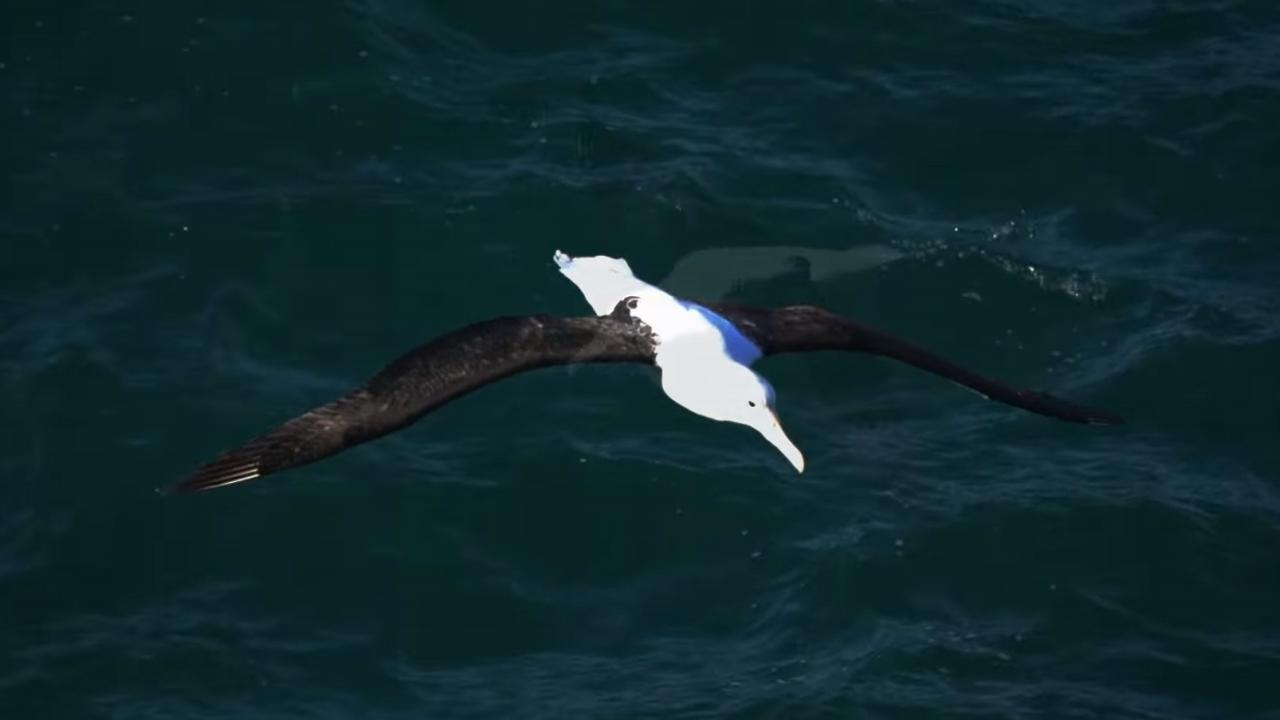Bird: (152, 241, 1132, 525)
